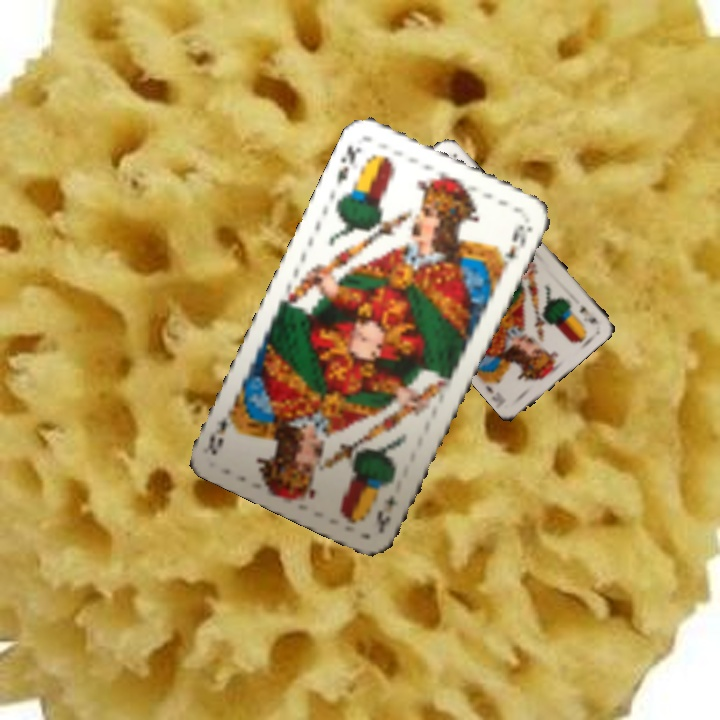EK: (332, 140, 365, 187), (372, 491, 399, 535), (575, 301, 600, 327)
